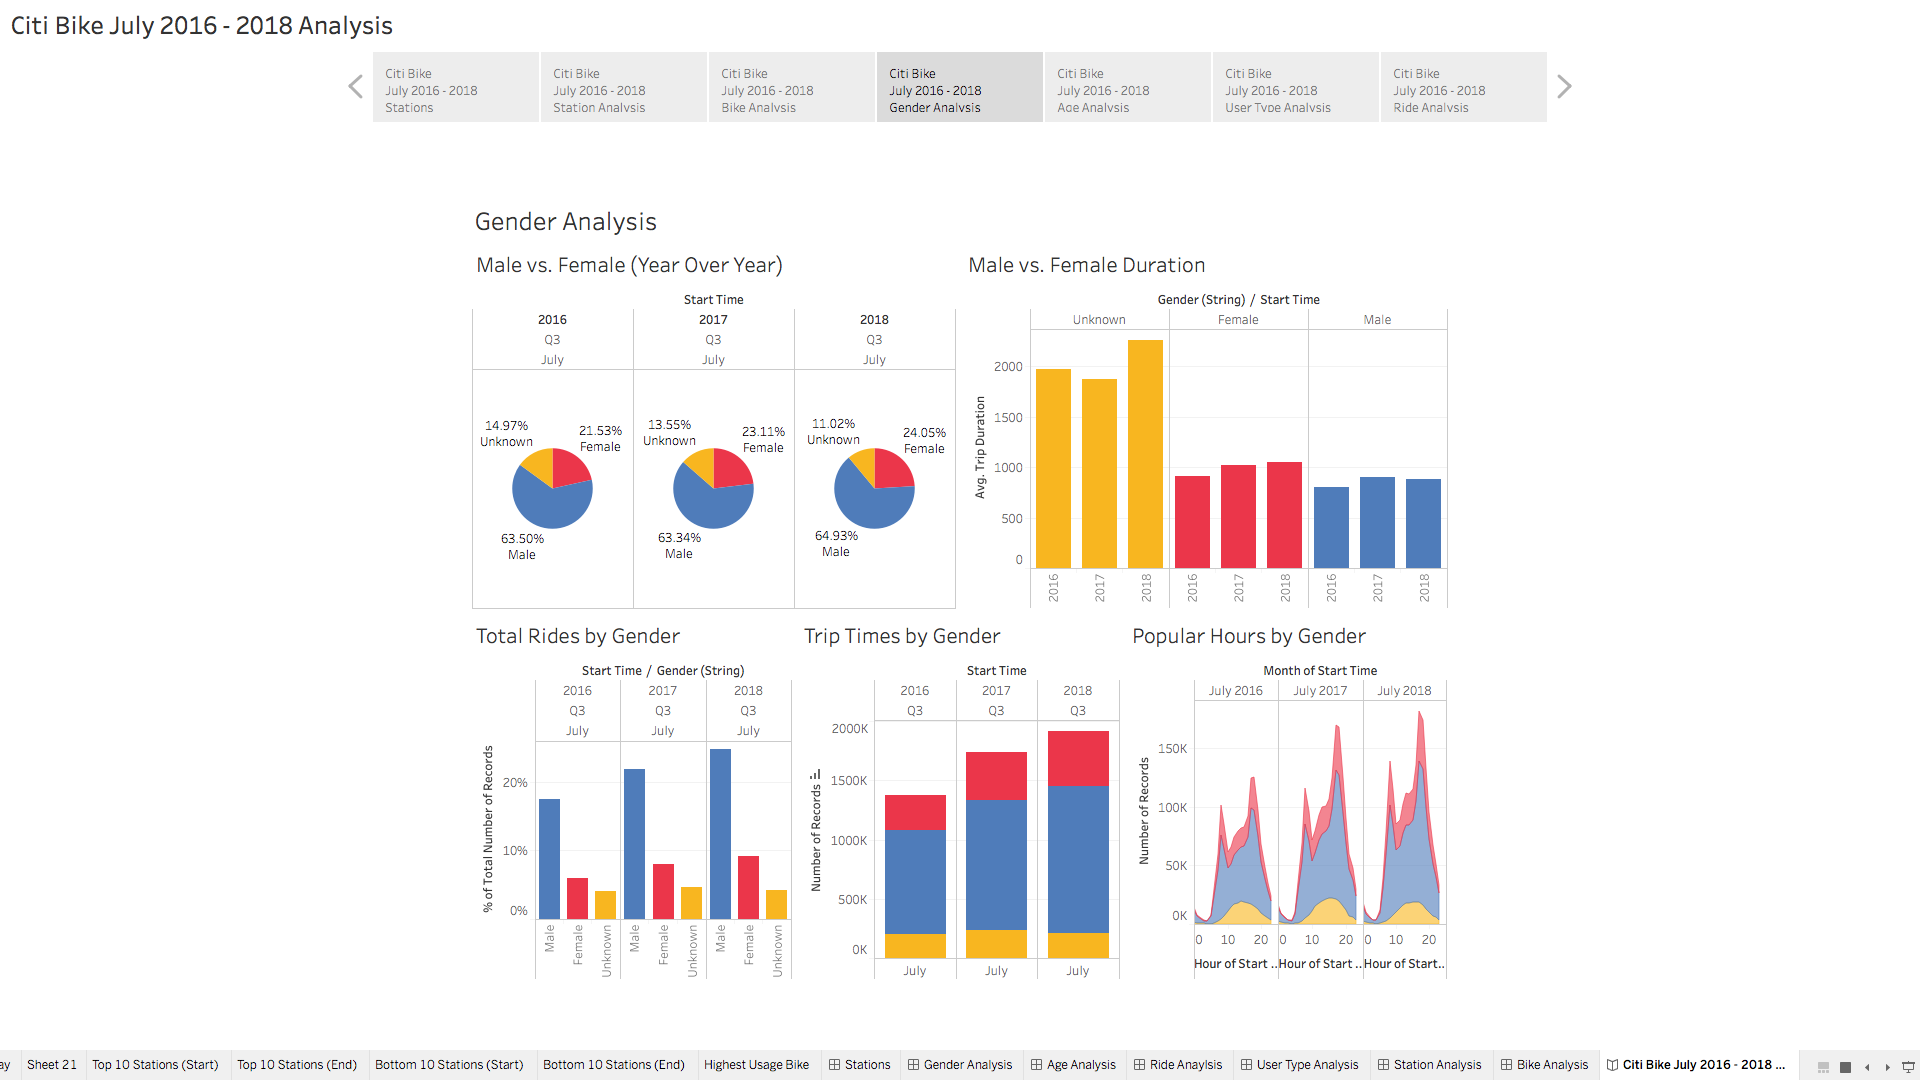

The dashboard page shown, as its layout file describes it:
{"tool":"tableau","page":{"name":"Gender Analysis","canvas":[1000,800],"ordinal":2},"visuals":[{"type":"title","box":[8,8,984,42]},{"type":"worksheet","title":"Male vs. Female (Year Over Year)","mark":"Pie","cols":["Start Time","Start Time","Start Time"],"box":[8,50,492,371]},{"type":"worksheet","title":"Male vs. Female Duration","mark":"Automatic","rows":["Trip Duration"],"cols":["Calculation_1114218755592523777","Start Time"],"box":[500,50,492,371]},{"type":"worksheet","title":"Total Rides by Gender","mark":"Bar","cols":["Start Time","Start Time","Start Time","Calculation_1114218755592523777"],"box":[8,421,328,371]},{"type":"worksheet","title":"Trip Times by Gender","mark":"Bar","rows":["Number of Records"],"cols":["Start Time","Start Time","Start Time"],"box":[336,421,328,371]},{"type":"worksheet","title":"Popular Hours by Gender","mark":"Area","rows":["Number of Records"],"cols":["Start Time","Start Time"],"box":[664,421,328,371]}]}

Visuals, with their boxes on the page's 1000x800 design canvas (x1, y1, x2, y2). These are canvas units, not pixel positions in the 1920x1080 screenshot, which may show the page scaled, cropped or inside an application window:
title: l=8, t=8, r=992, b=50
"Male vs. Female (Year Over Year)" worksheet (Pie marks): l=8, t=50, r=500, b=421
"Male vs. Female Duration" worksheet: l=500, t=50, r=992, b=421
"Total Rides by Gender" worksheet (Bar marks): l=8, t=421, r=336, b=792
"Trip Times by Gender" worksheet (Bar marks): l=336, t=421, r=664, b=792
"Popular Hours by Gender" worksheet (Area marks): l=664, t=421, r=992, b=792
